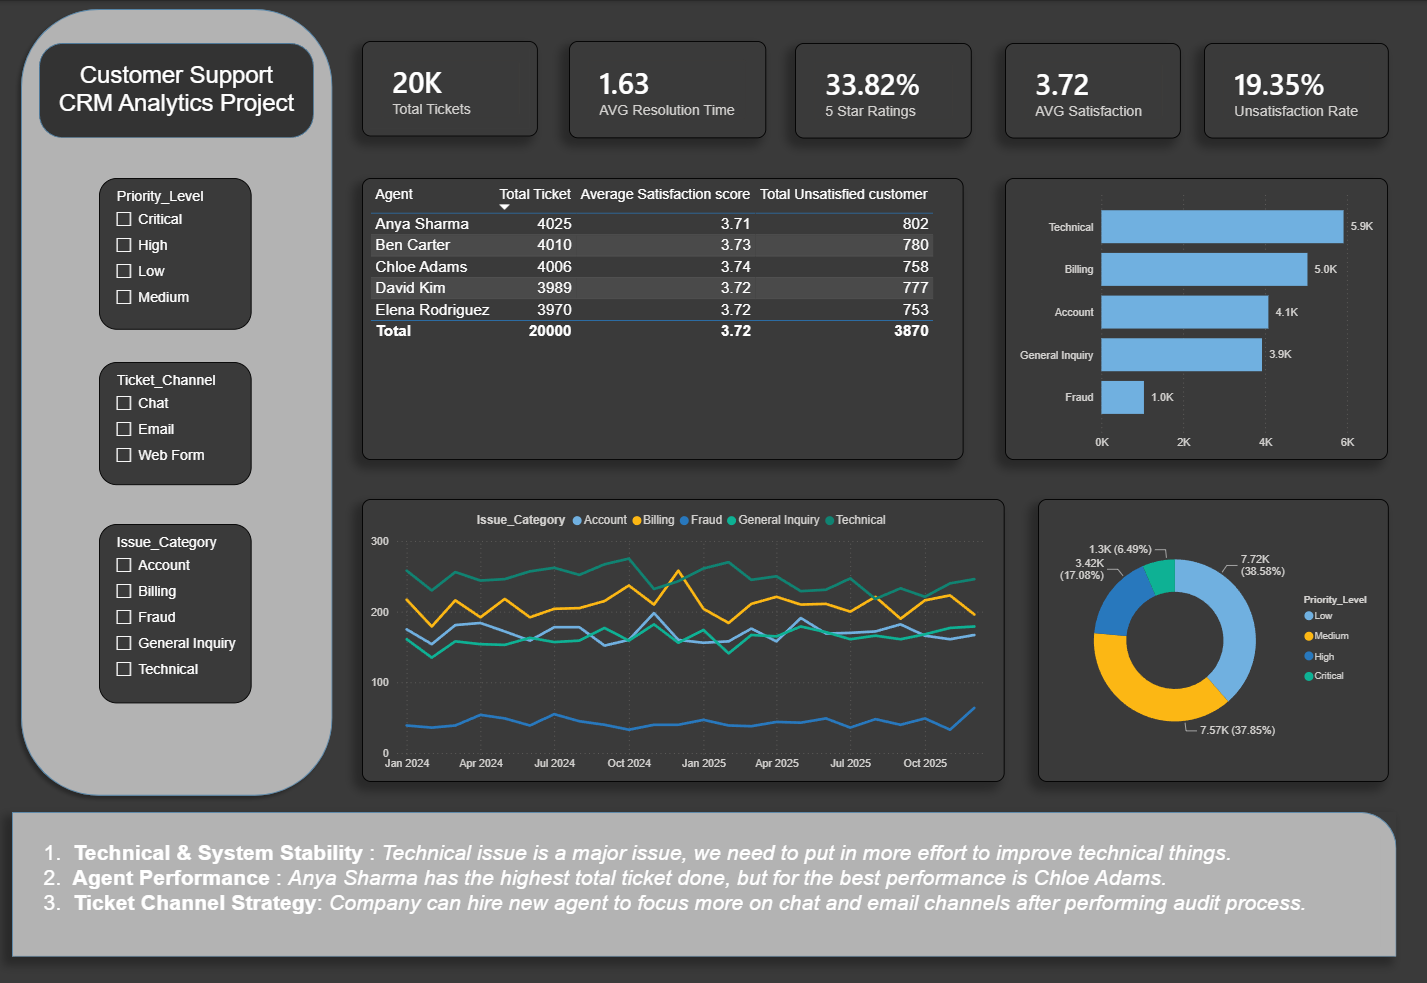

What the dashboard file says about the page in this screenshot:
{"tool":"powerbi","page":{"name":"Page 1","canvas":[1600,1100],"ordinal":0},"visuals":[{"type":"shape","box":[15.4,0,367,899.4],"z":0},{"type":"cardVisual","fields":{"Data":["customer_support_tickets_dup.Total_tickets"]},"box":[406.9,44.9,197.2,107.3],"z":1000},{"type":"cardVisual","fields":{"Data":["customer_support_tickets_dup.Average Satisfaction score"]},"box":[1127,47.4,197.2,107.3],"z":2000},{"type":"cardVisual","fields":{"Data":["customer_support_tickets_dup.AVG_resolution_day"]},"box":[639,44.9,220.9,108.6],"z":3000},{"type":"lineChart","fields":{"Series":["customer_support_tickets_dup.Issue_Category"],"Y":["CountNonNull(customer_support_tickets_dup.Issue_Category)"],"Category":["customer_support_tickets_dup.Submission_Date.Variation.Date Hierarchy.Year","customer_support_tickets_dup.Submission_Date.Variation.Date Hierarchy.Month"]},"box":[406.9,557.9,720.1,317],"z":4000},{"type":"barChart","fields":{"Category":["customer_support_tickets_dup.Issue_Category"],"Y":["customer_support_tickets_dup.Total_tickets"]},"box":[1127,198.4,429.3,315.8],"z":5000},{"type":"tableEx","fields":{"Values":["customer_support_tickets_dup.Assigned_Agent","CountNonNull(customer_support_tickets_dup.Ticket_ID)","customer_support_tickets_dup.Average Satisfaction score","customer_support_tickets_dup.low_satisfaction_tickets"]},"box":[406.9,198.4,673.9,315.8],"z":6000},{"type":"donutChart","fields":{"Category":["customer_support_tickets_dup.Priority_Level"],"Y":["CountNonNull(customer_support_tickets_dup.Issue_Category)"]},"box":[1164,557.9,392.7,316.9],"z":7000},{"type":"slicer","fields":{"Values":["customer_support_tickets_dup.Ticket_Channel"]},"box":[112,404.5,171.4,137.8],"z":8000},{"type":"slicer","fields":{"Values":["customer_support_tickets_dup.Priority_Level"]},"box":[112,198.3,171.4,170.3],"z":9000},{"type":"slicer","fields":{"Values":["customer_support_tickets_dup.Issue_Category"]},"box":[112,586,171.4,200.6],"z":10000},{"type":"shape","box":[44.9,47.5,307.9,106.5],"z":11000},{"type":"textbox","box":[53.9,62.9,290,77],"z":12000},{"type":"cardVisual","fields":{"Data":["customer_support_tickets_dup.5_Stars_%"]},"box":[892.4,47.4,198.4,107.3],"z":13000},{"type":"cardVisual","fields":{"Data":["customer_support_tickets_dup.Unsatisfaction Rate"]},"box":[1350.4,47.4,207.2,107.3],"z":13001},{"type":"shape","box":[15,908.6,1551.3,162.2],"z":13002},{"type":"textbox","box":[44.9,936,1502.7,123.6],"z":13003}]}

Visuals, with their boxes in screenshot pixels (x1, y1, x2, y2), scaled from the page's 1600x1100 canvas onto the 1427x983 screenshot:
shape: 14,0,341,804
cardVisual - customer_support_tickets_dup.Total_tickets: 363,40,539,136
cardVisual - customer_support_tickets_dup.Average Satisfaction score: 1005,42,1181,138
cardVisual - customer_support_tickets_dup.AVG_resolution_day: 570,40,767,137
lineChart - customer_support_tickets_dup.Issue_Category x CountNonNull(customer_support_tickets_dup.Issue_Category): 363,499,1005,782
barChart - customer_support_tickets_dup.Issue_Category x customer_support_tickets_dup.Total_tickets: 1005,177,1388,460
tableEx - customer_support_tickets_dup.Assigned_Agent x CountNonNull(customer_support_tickets_dup.Ticket_ID): 363,177,964,460
donutChart - customer_support_tickets_dup.Priority_Level x CountNonNull(customer_support_tickets_dup.Issue_Category): 1038,499,1388,782
slicer - customer_support_tickets_dup.Ticket_Channel: 100,361,253,485
slicer - customer_support_tickets_dup.Priority_Level: 100,177,253,329
slicer - customer_support_tickets_dup.Issue_Category: 100,524,253,703
shape: 40,42,315,138
textbox: 48,56,307,125
cardVisual - customer_support_tickets_dup.5_Stars_%: 796,42,973,138
cardVisual - customer_support_tickets_dup.Unsatisfaction Rate: 1204,42,1389,138
shape: 13,812,1397,957
textbox: 40,836,1380,947
